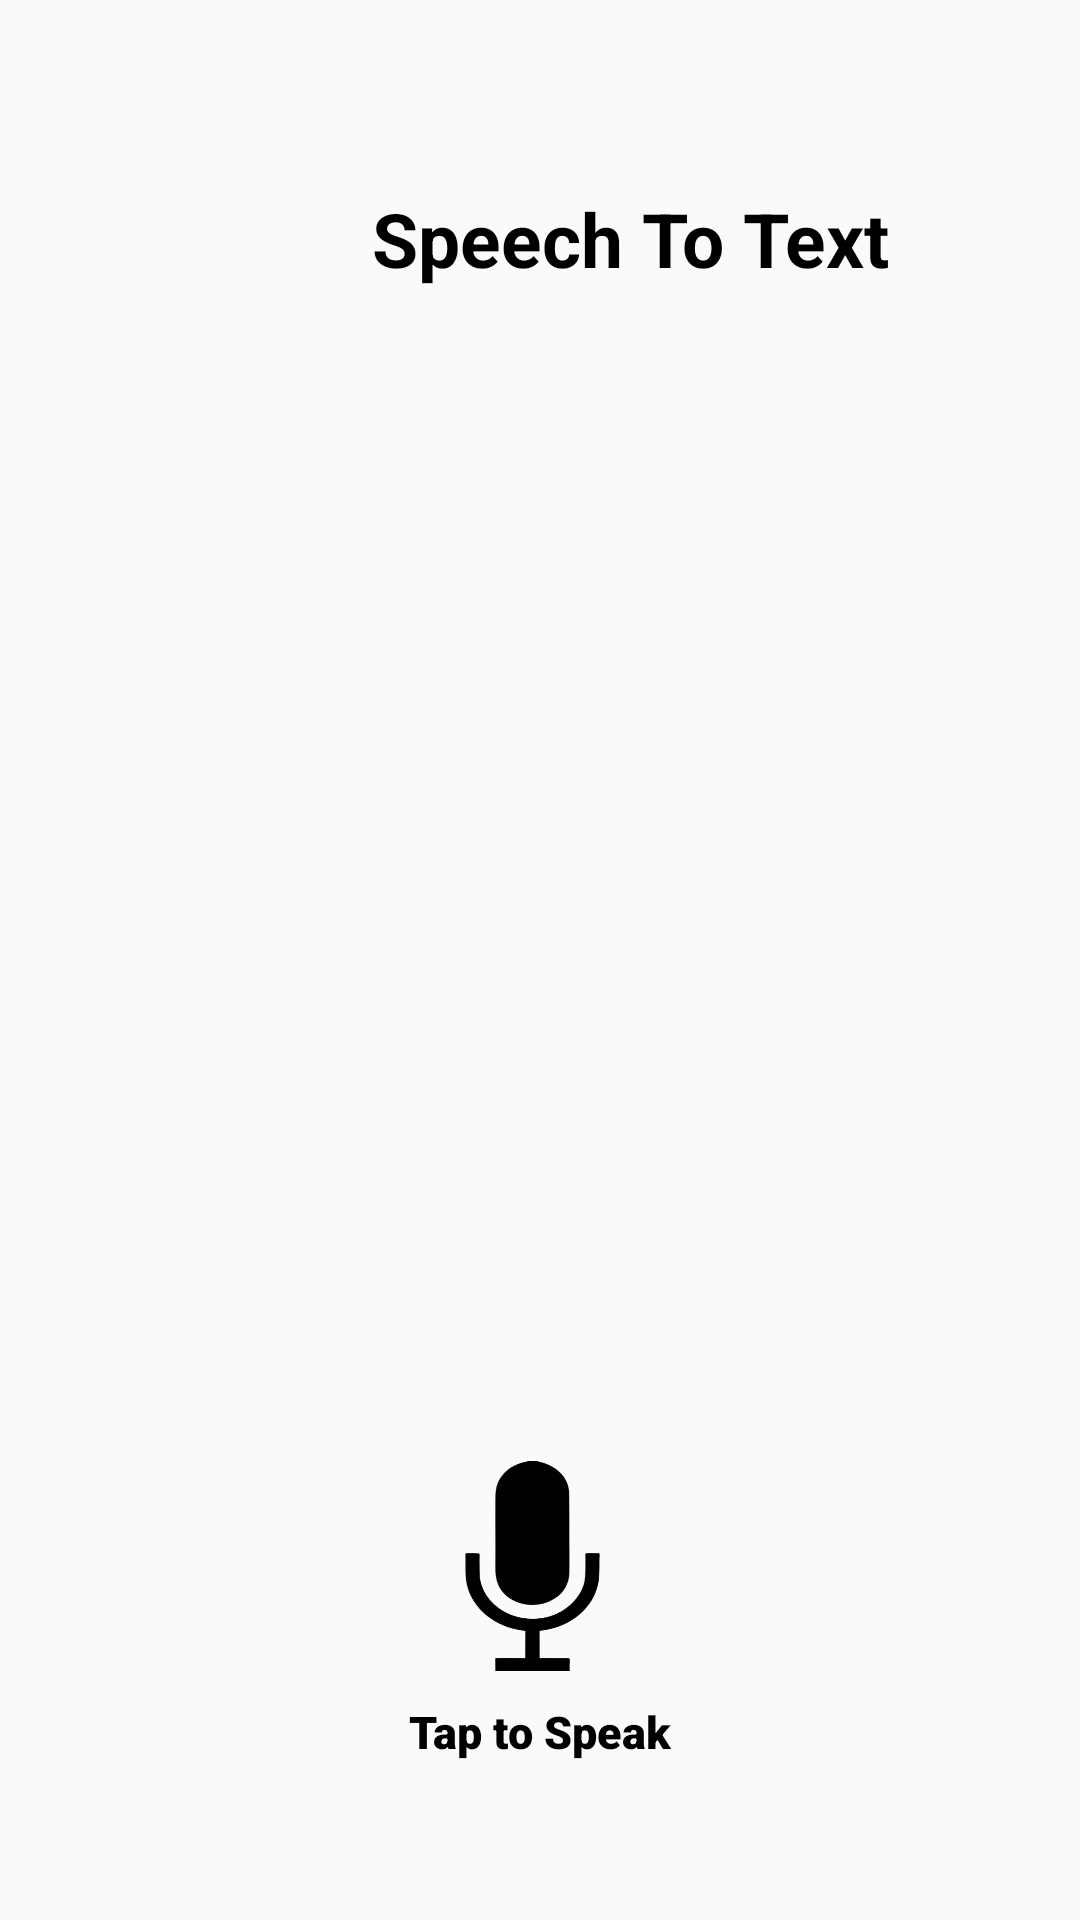

Locate icon controls on the screen. Image size 1080w x 1920h, boxes as [x1,y1,x2,y2].
mic: [465,1461,600,1671]
